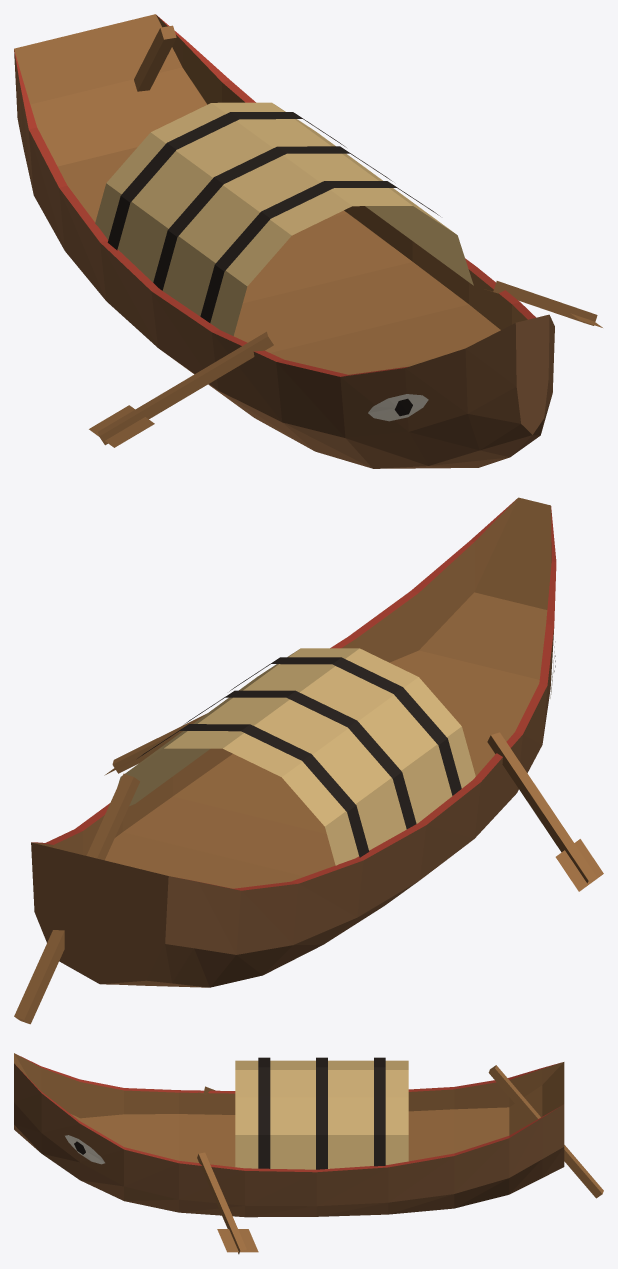
The model's file is ship_rowboat.glb.
3 renders of one model, top to bottom at view 1: azimuth 30°, elevation 25°; view 2: azimuth 150°, elevation 25°; view 3: azimuth 270°, elevation 25°, orthographic. The views are drawn at different scales.
Parts seen in each view (by area): view 1: ship_rowboat; view 2: ship_rowboat; view 3: ship_rowboat.
Part boxes in pixels (left/top/right/bottom): ship_rowboat: left=14, top=14, right=602, bottom=468; ship_rowboat: left=14, top=497, right=603, bottom=1024; ship_rowboat: left=14, top=1053, right=603, bottom=1254.
Size of the model in its own units: 2.95 by 1.29 by 4.92.
